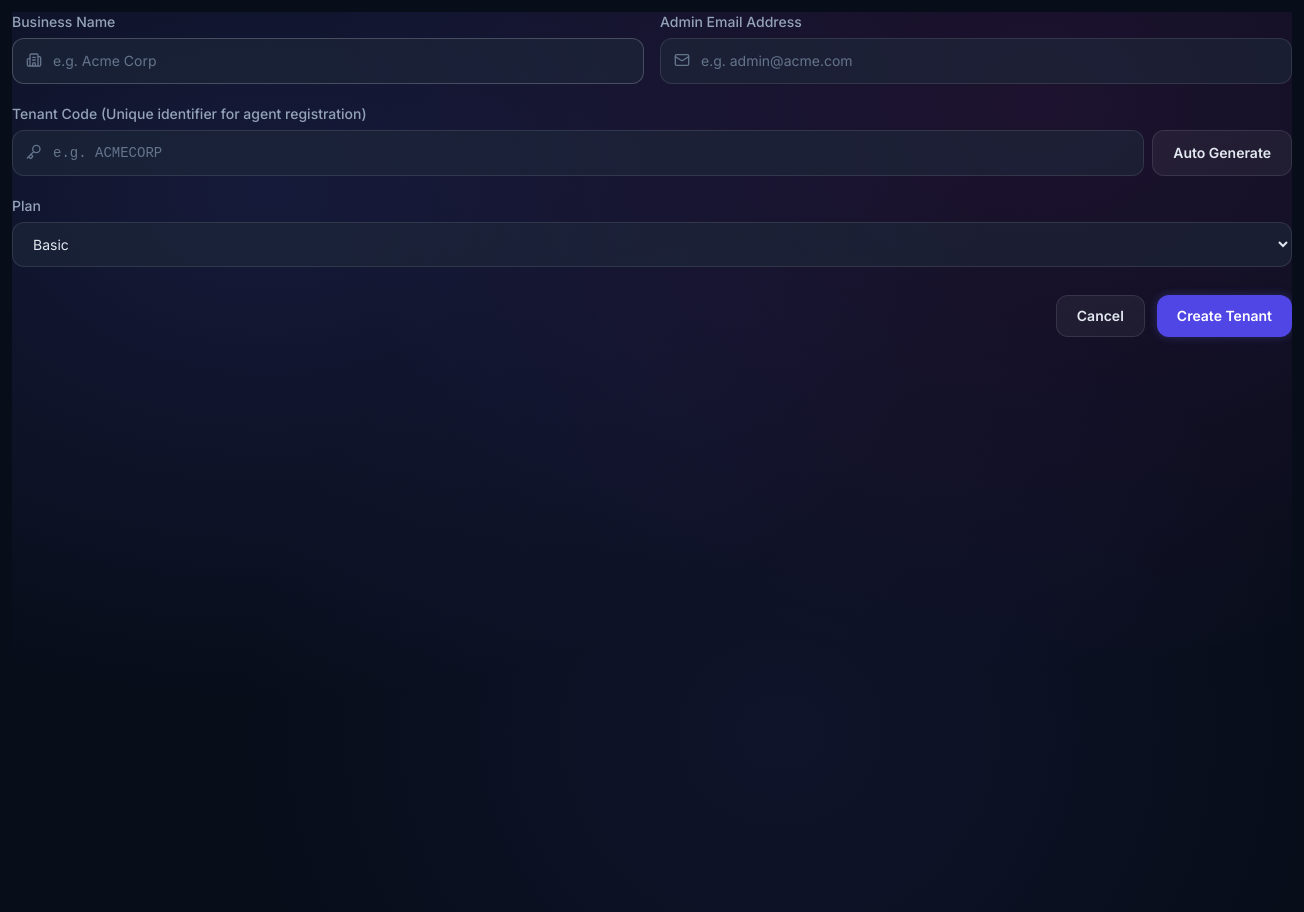
Test: CreateTenantForm › validates tenant code format
Type "Test Business" into the field labelled "Business Name". click: coordinates (328, 61)
box: [12, 38, 644, 84]
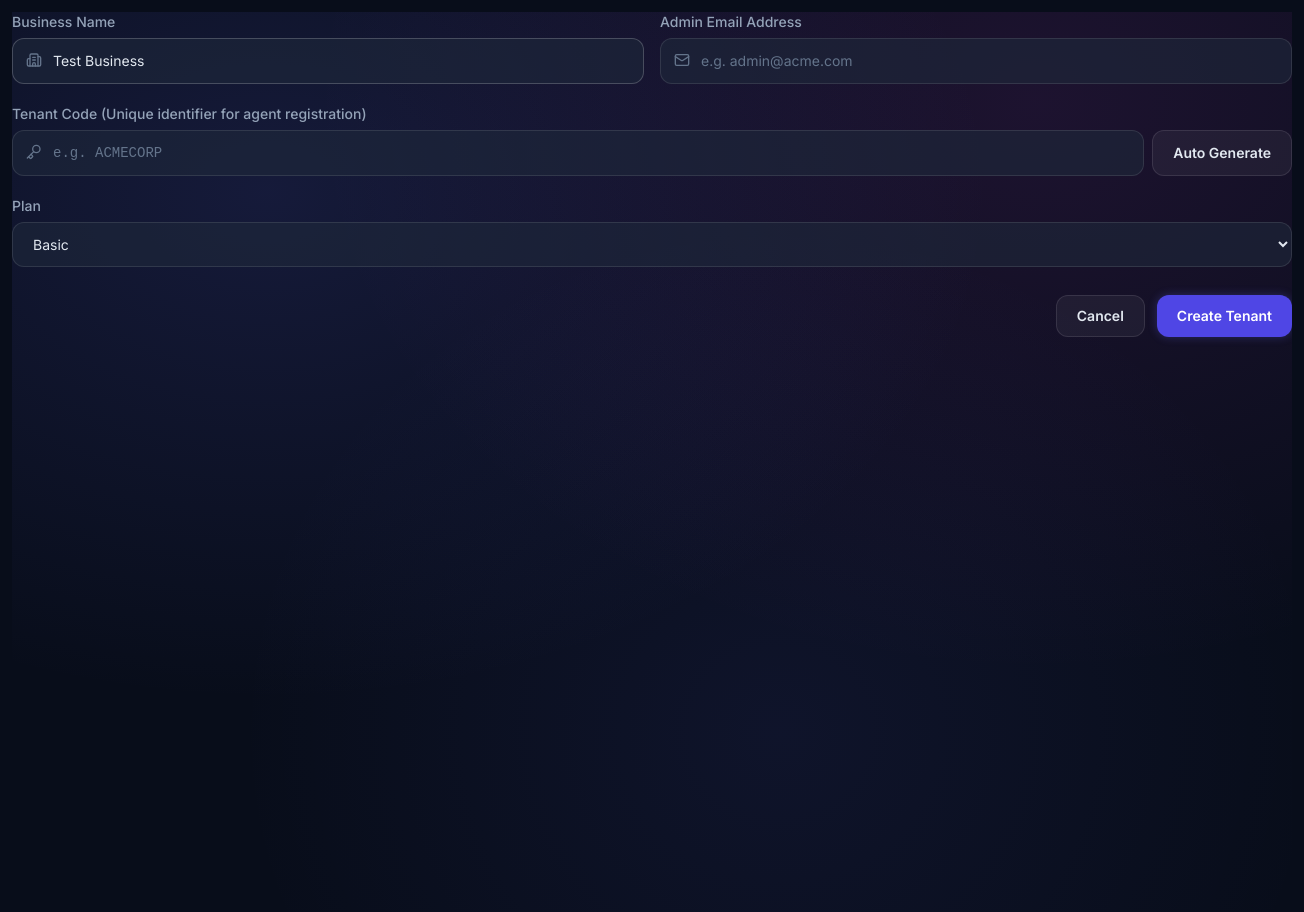
Type "test@example.com" into the field labelled "Admin Email Address". click: coordinates (976, 61)
box: [660, 38, 1292, 84]
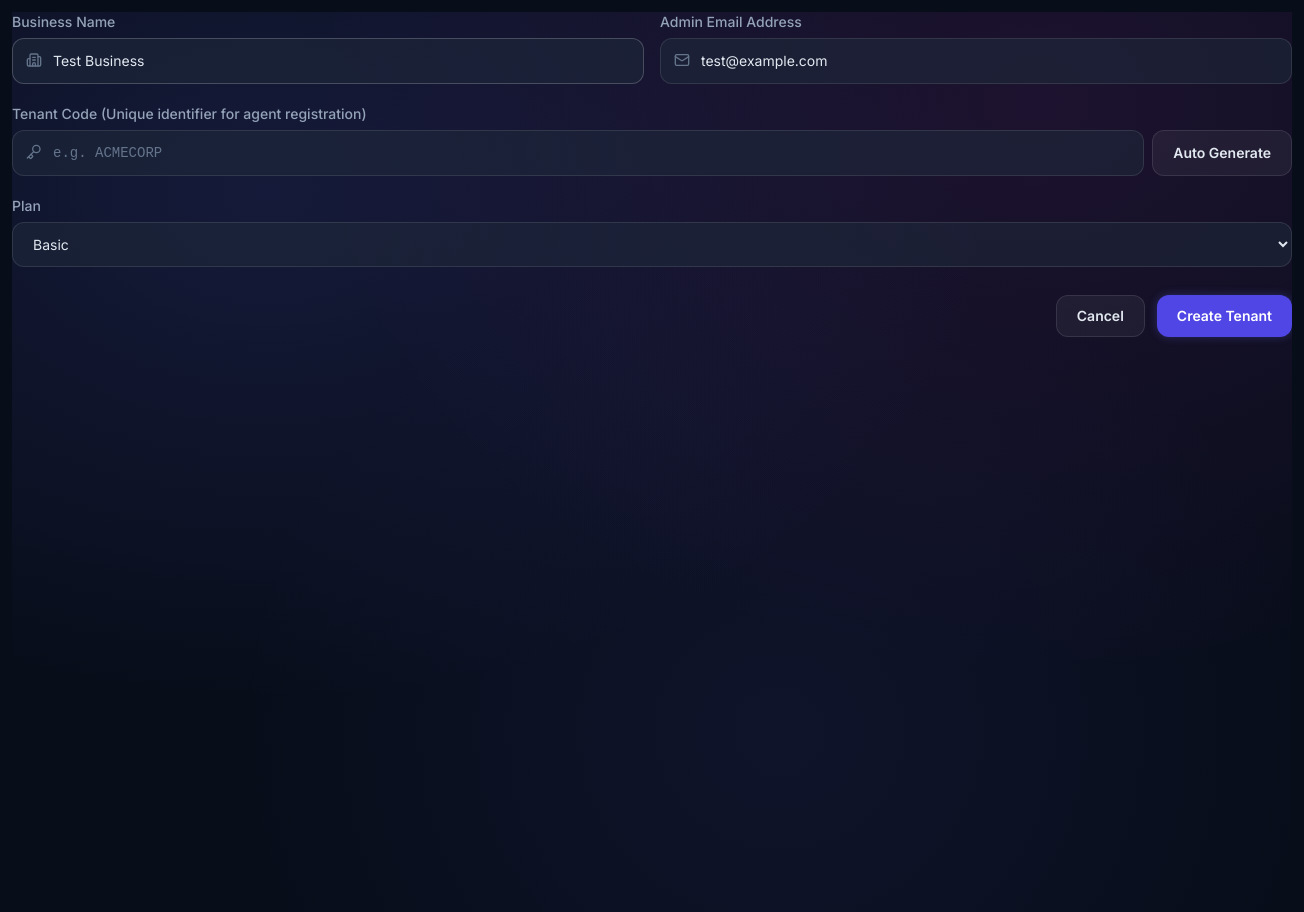
Type "abc" into the field labelled "Tenant Code (Unique identifier for agent registration)". click: coordinates (578, 153)
box: [12, 130, 1144, 176]
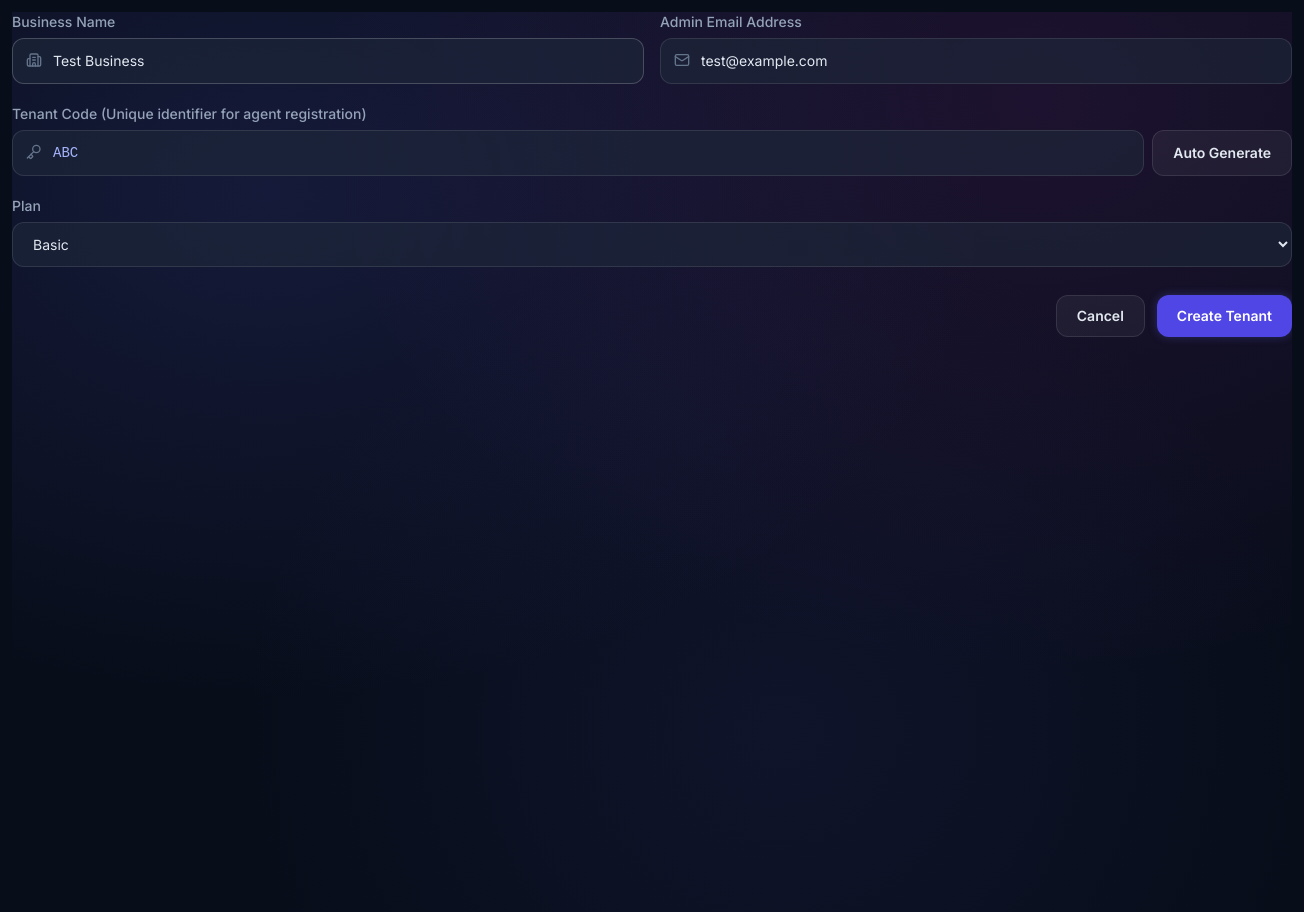
Click the button "Create Tenant". click: coordinates (1224, 316)
box: [1157, 295, 1292, 337]
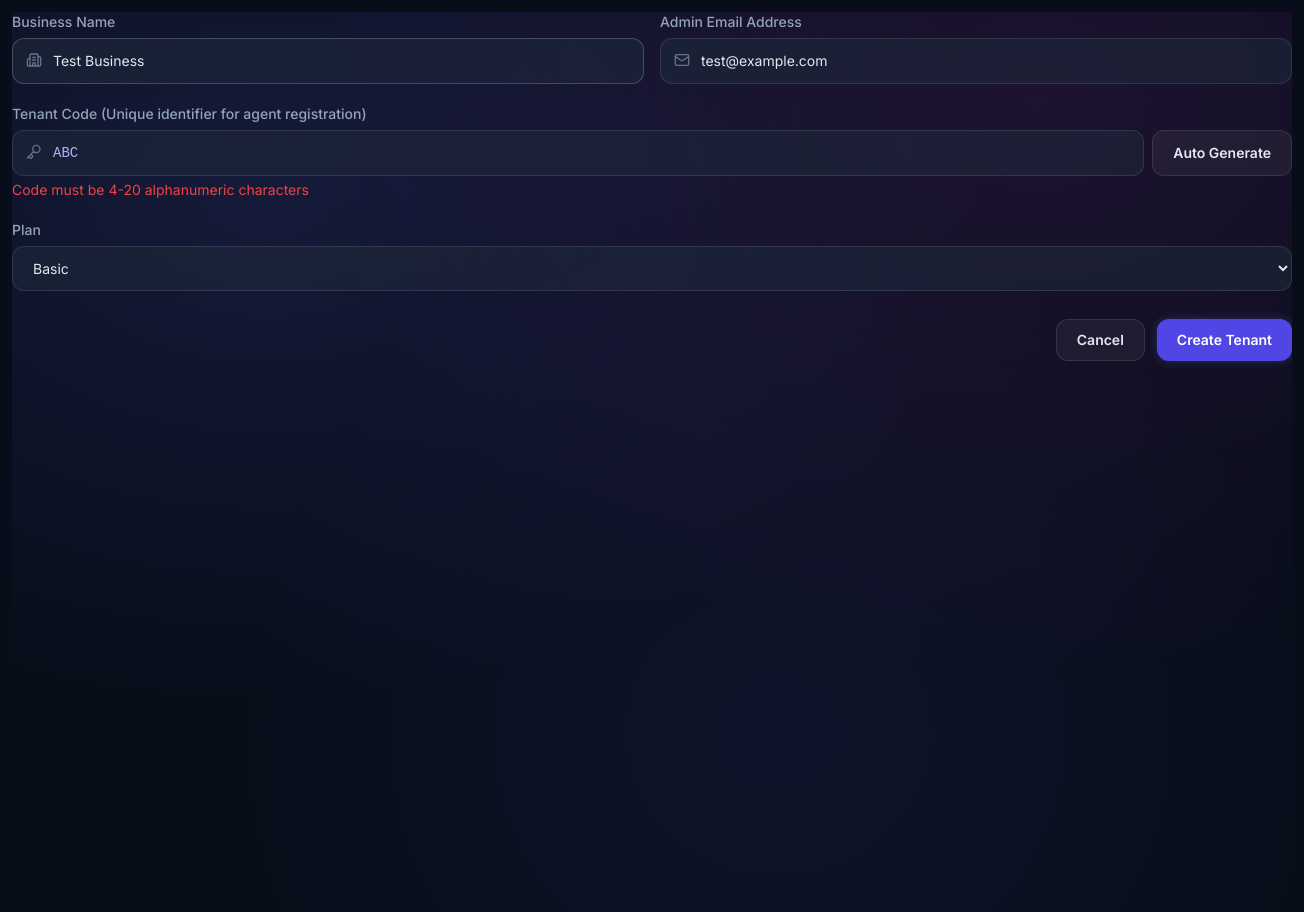
Check: the text "Code must be 4-20 alphanumeric characters" is shown, box [12, 181, 309, 198]
